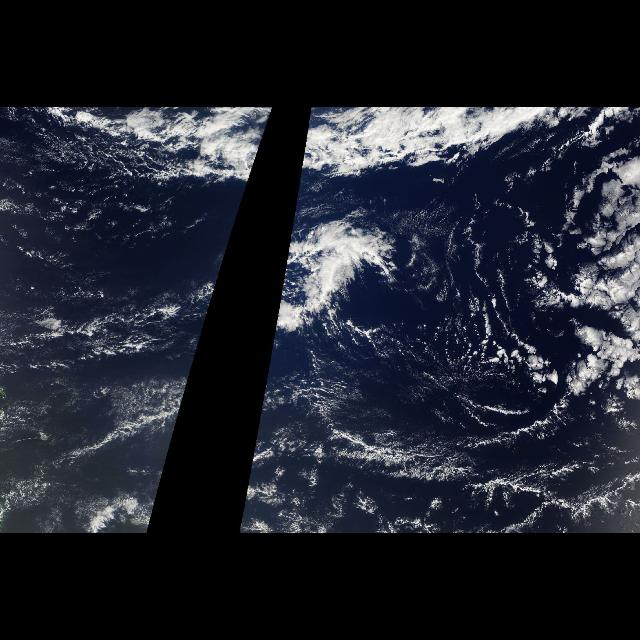Fish: (239, 384, 623, 534), (32, 384, 188, 534), (268, 204, 414, 360), (298, 109, 562, 180), (200, 109, 274, 180)
Gravel: (3, 108, 195, 360)
